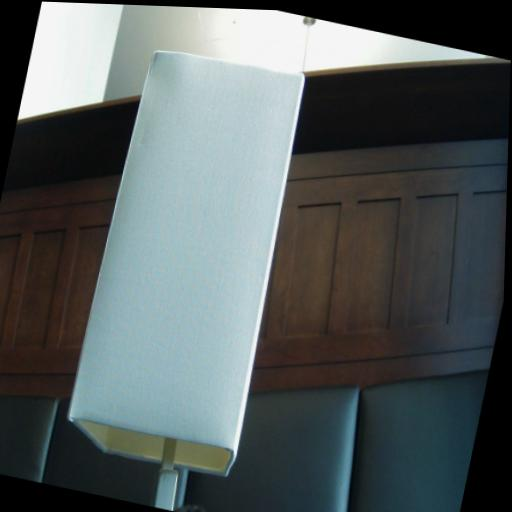lamp: (52, 34, 315, 512)
